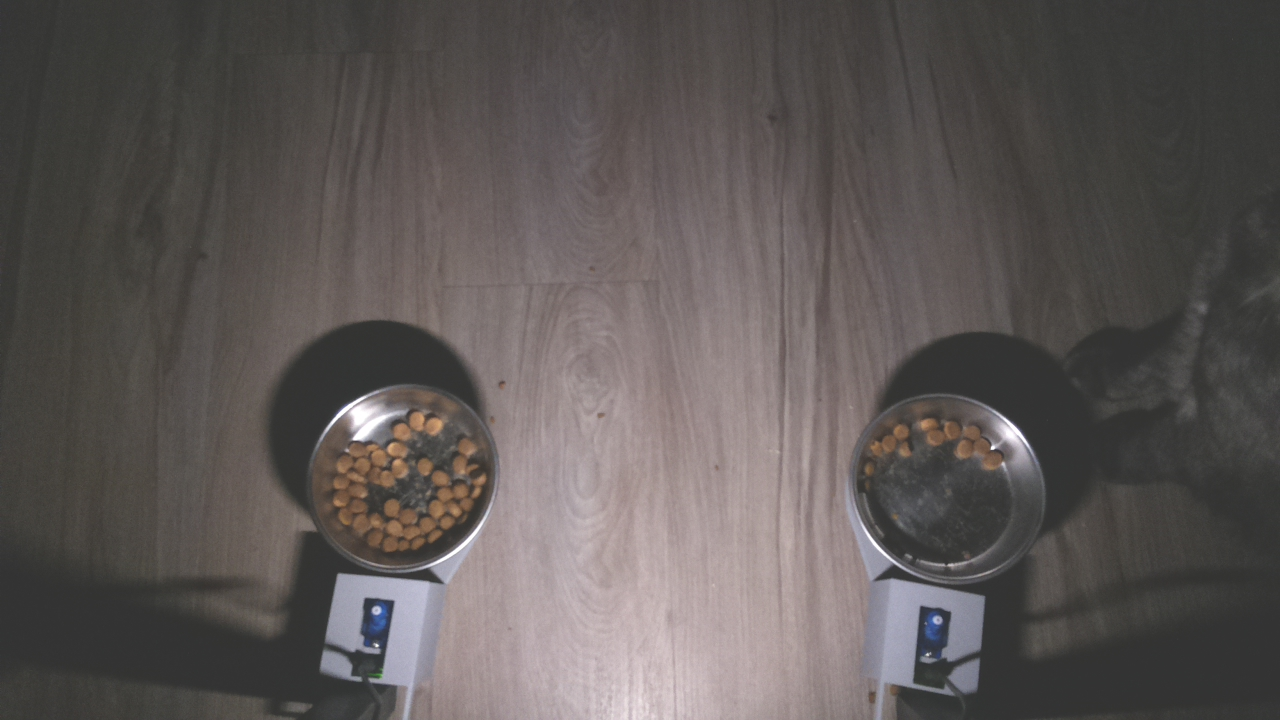open_bowl: (849, 383, 1051, 596), (305, 377, 502, 577)
